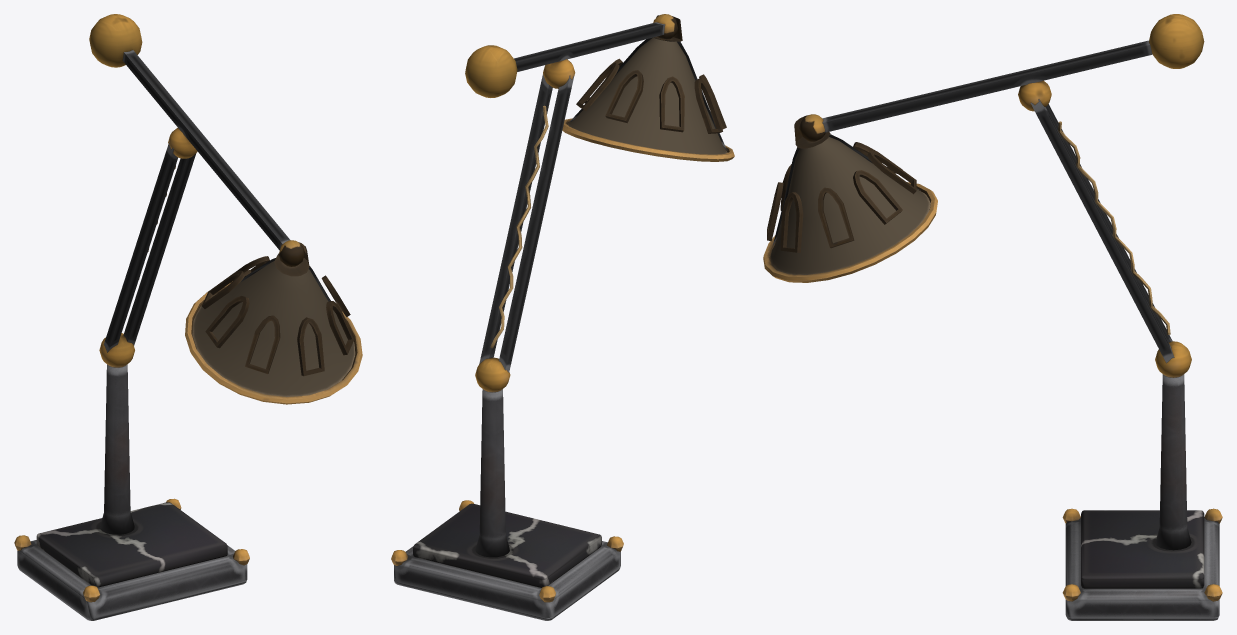
Rendered from ReadingLampSwing.fbx.
3 views of the same model, side by side, from view 1: azimuth 30°, elevation 25°; view 2: azimuth 150°, elevation 25°; view 3: azimuth 270°, elevation 25° (orthographic). The views are drawn at different scales.
Visible parts, largest first — view 1: ReadingLampSwing_Main; view 2: ReadingLampSwing_Main; view 3: ReadingLampSwing_Main.
Part boxes in pixels (bbox=[...]): ReadingLampSwing_Main: bbox=[14, 14, 362, 620]; ReadingLampSwing_Main: bbox=[391, 14, 734, 620]; ReadingLampSwing_Main: bbox=[763, 14, 1222, 620].
Bounding box in the file's own units: 64 × 203 × 149.
